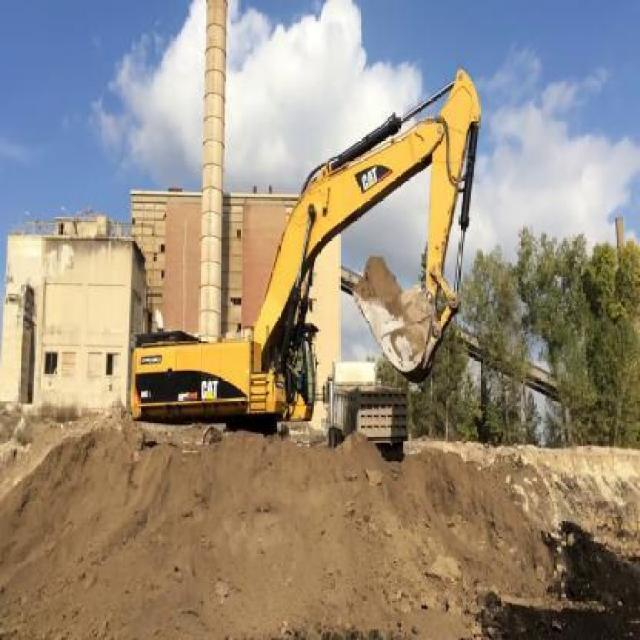Dump Truck: (321, 354, 408, 461)
Excavator: (117, 57, 481, 441)
